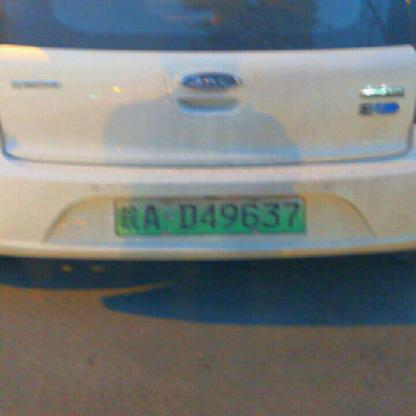lp: (116, 197, 304, 232)
